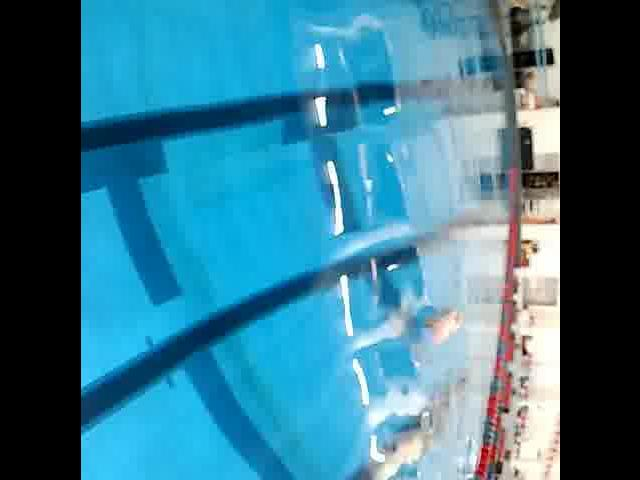Bottle: (404, 303, 468, 353)
